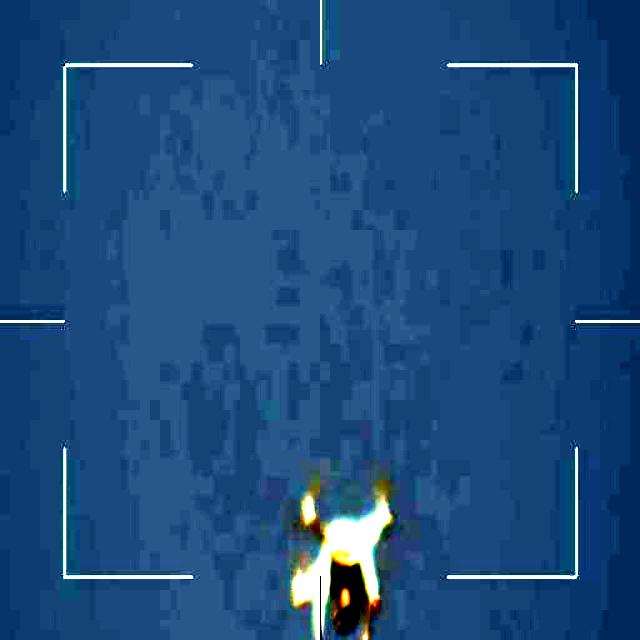bird: (294, 489, 409, 640)
